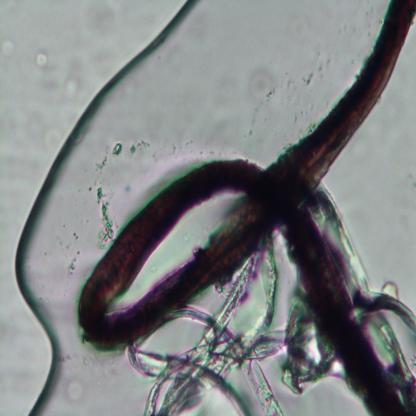Air bubble: (0, 0, 190, 416)
Background material: (95, 184, 116, 251), (61, 231, 82, 278), (248, 68, 276, 102), (64, 378, 86, 406), (63, 72, 82, 99), (34, 48, 51, 72), (129, 138, 154, 154), (0, 36, 15, 62), (300, 69, 316, 86), (109, 142, 123, 158)
Cellulose filter fibre: (126, 300, 336, 415), (352, 287, 416, 337)
Cotton: (77, 0, 416, 415)
